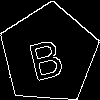B: (23, 29, 67, 82)
